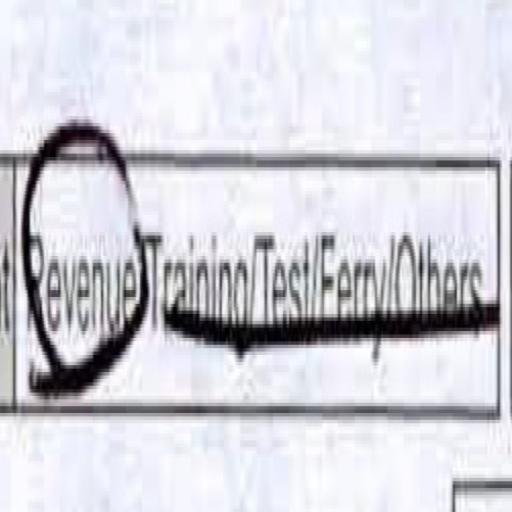check: (17, 119, 155, 457)
